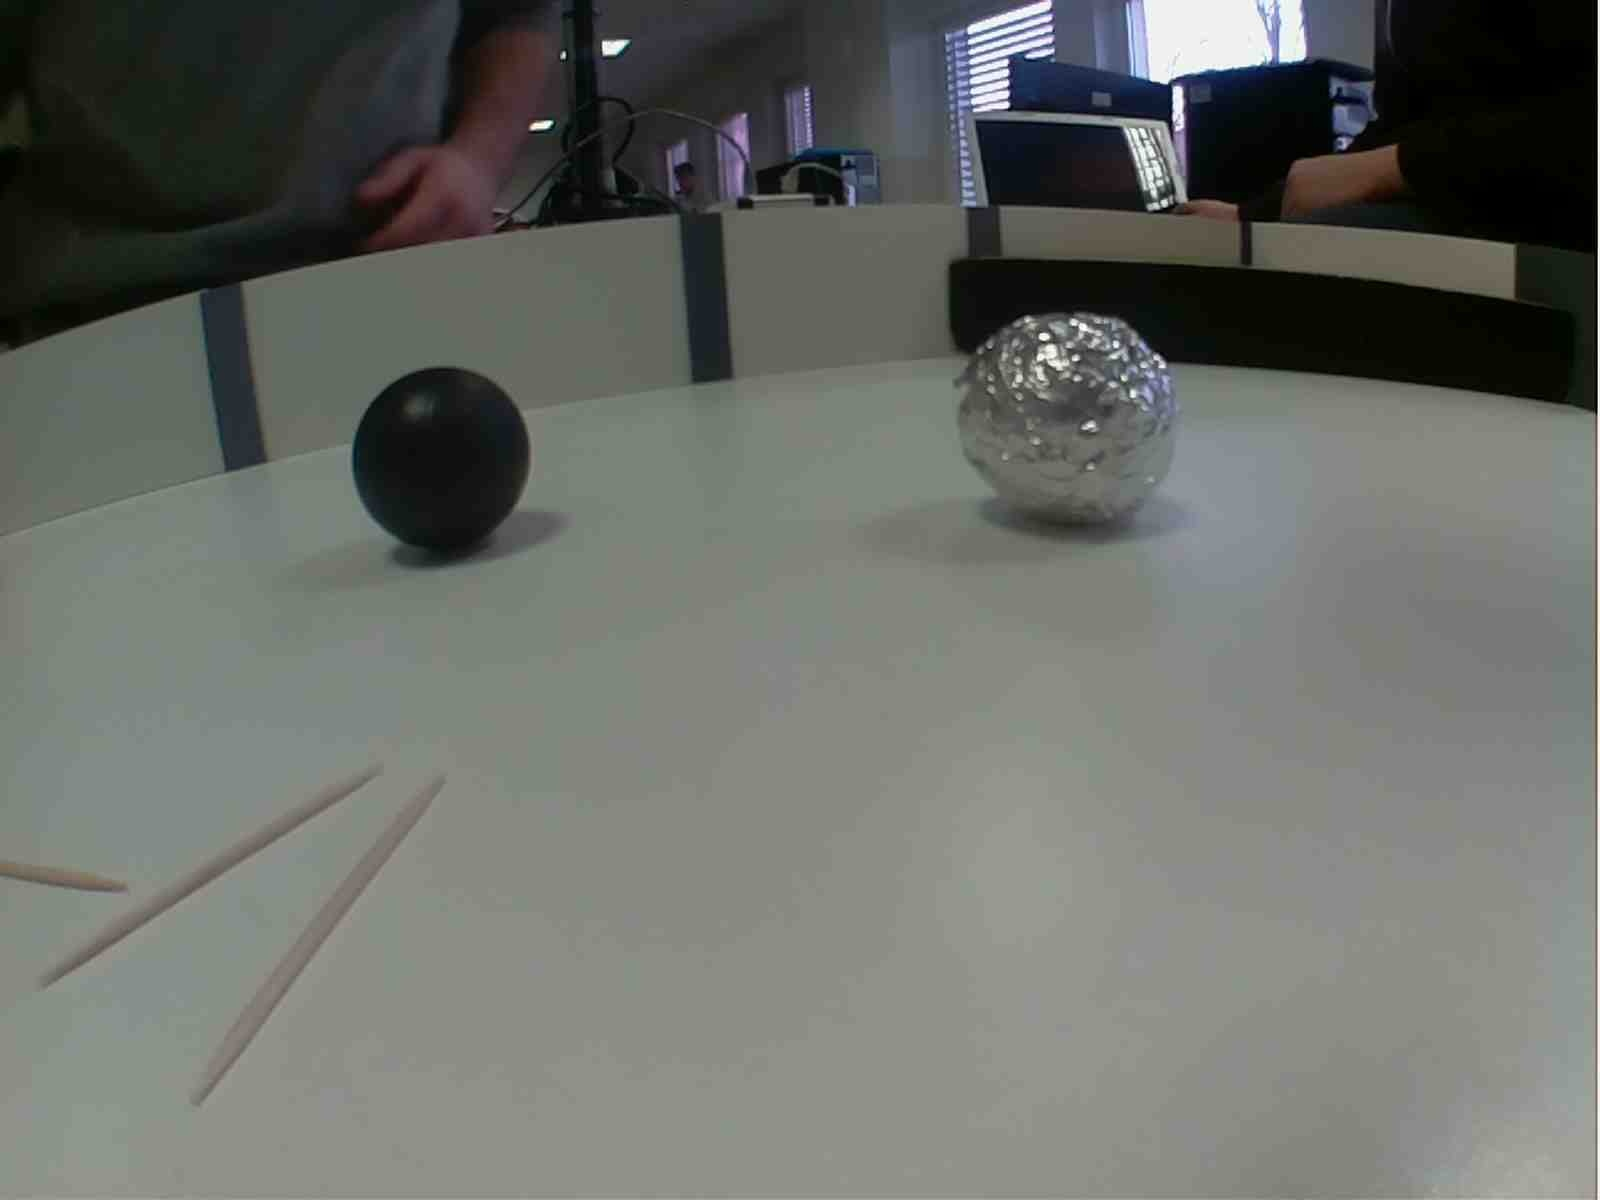bianca: (947, 313, 1182, 536)
nera: (341, 364, 540, 551)
